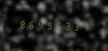eight: (17, 18, 25, 29)
four: (80, 20, 88, 32), (35, 19, 43, 30)
nine: (44, 19, 52, 30)
six: (53, 19, 61, 31), (26, 19, 34, 30)
three: (62, 20, 70, 31), (71, 20, 79, 31)
